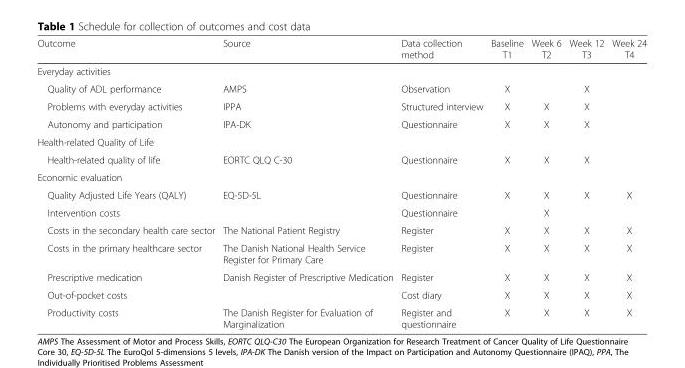table: (36, 37, 646, 329)
table column: (36, 37, 218, 329), (218, 37, 396, 329), (396, 37, 486, 329), (564, 37, 607, 329), (486, 37, 526, 329), (607, 37, 646, 329), (526, 37, 564, 329)
table column header: (36, 37, 646, 62)
table projected row header: (36, 132, 646, 150), (36, 62, 646, 79), (36, 168, 646, 185)
table row: (36, 238, 646, 267), (36, 303, 646, 329), (36, 37, 646, 62), (36, 79, 646, 97), (36, 97, 646, 115), (36, 132, 646, 150), (36, 150, 646, 168), (36, 185, 646, 203), (36, 203, 646, 221), (36, 267, 646, 285), (36, 285, 646, 303), (36, 62, 646, 79), (36, 115, 646, 132), (36, 168, 646, 185), (36, 221, 646, 238)
